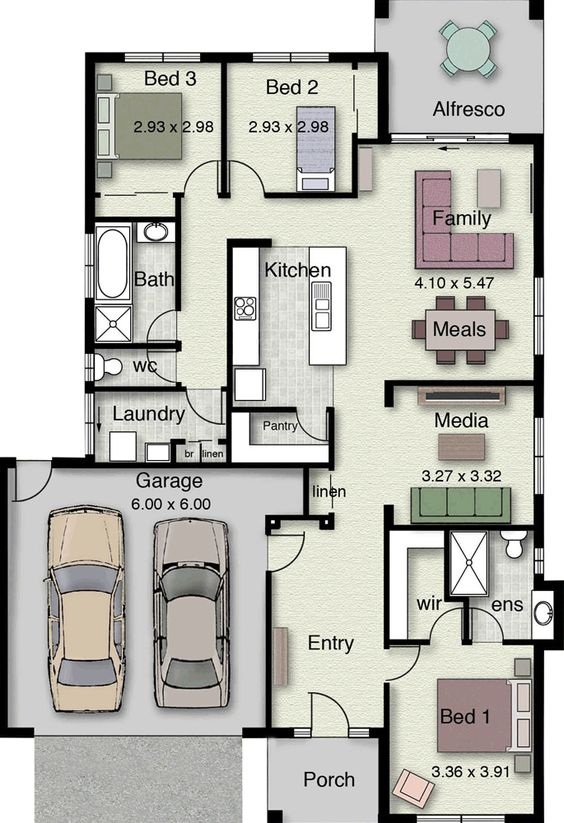door: (306, 684, 352, 725), (273, 530, 311, 573), (9, 470, 49, 505), (181, 155, 218, 192), (186, 394, 223, 431), (227, 155, 264, 192), (138, 311, 175, 342), (390, 644, 422, 679), (144, 349, 177, 382), (430, 605, 462, 638), (469, 605, 496, 639), (295, 416, 328, 443)
room: (353, 134, 548, 385), (380, 634, 546, 823), (220, 47, 388, 201), (384, 376, 548, 532), (79, 50, 231, 201), (77, 48, 229, 199), (225, 234, 349, 416), (442, 521, 564, 653), (77, 382, 237, 473), (85, 212, 182, 353), (380, 521, 472, 648), (221, 405, 340, 470), (81, 340, 190, 392)
wall: (1, 458, 8, 736), (534, 642, 543, 817), (93, 462, 334, 468), (85, 53, 94, 195), (534, 135, 543, 276), (227, 241, 232, 466), (266, 573, 272, 737), (378, 54, 388, 139), (534, 359, 544, 415), (88, 216, 180, 222), (385, 685, 389, 820), (243, 729, 294, 738), (265, 193, 356, 198), (176, 216, 181, 302), (55, 458, 94, 468), (227, 239, 271, 246), (332, 56, 388, 61), (88, 52, 119, 61), (266, 515, 334, 519), (304, 463, 308, 516), (384, 505, 393, 528), (1, 729, 30, 735), (385, 382, 392, 405), (352, 53, 358, 70), (329, 513, 335, 528), (266, 515, 270, 534)
window: (384, 128, 513, 150), (73, 229, 98, 303), (120, 48, 203, 70), (249, 47, 332, 69), (79, 388, 99, 459), (530, 274, 546, 360), (531, 413, 547, 499), (413, 809, 511, 823), (80, 349, 98, 386), (530, 543, 548, 578)
